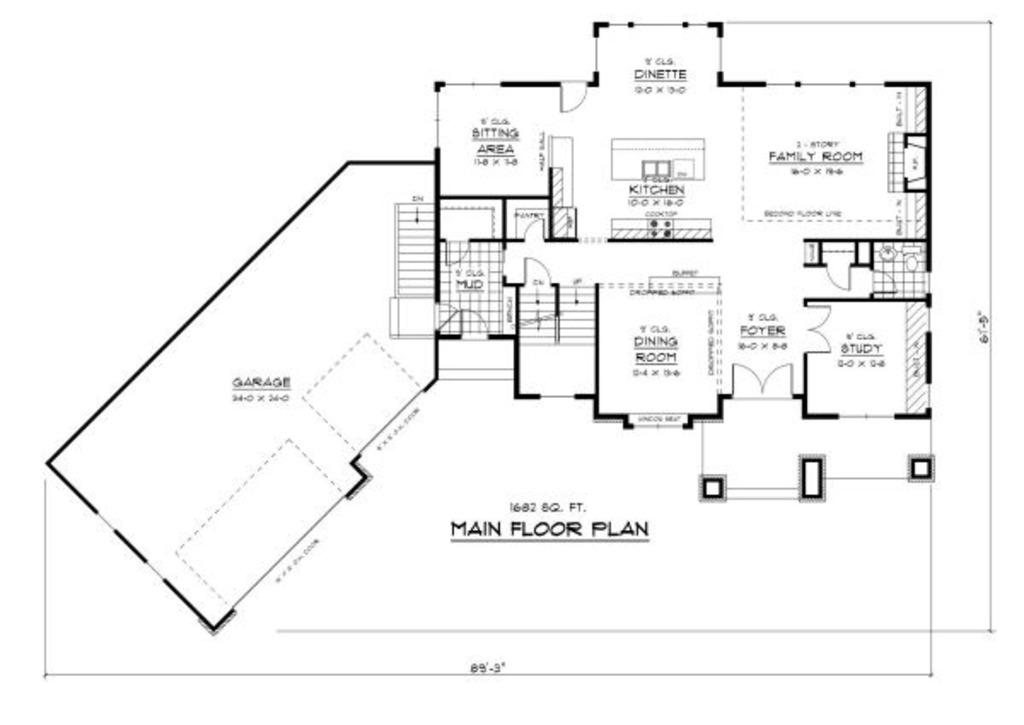door: (729, 361, 796, 399), (802, 299, 833, 356), (556, 80, 594, 115), (519, 256, 554, 288), (820, 264, 857, 292), (519, 217, 550, 247)
kitchen_bar: (606, 131, 709, 189)
large_sink: (899, 241, 923, 273)
stairs: (516, 285, 600, 403), (390, 195, 439, 338)
windows: (604, 18, 711, 32), (755, 81, 887, 91), (828, 409, 897, 423), (441, 78, 500, 90)
